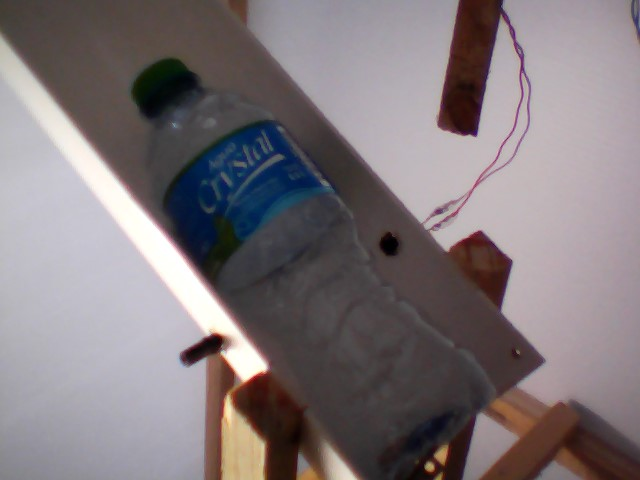plastico: (121, 48, 507, 480)
